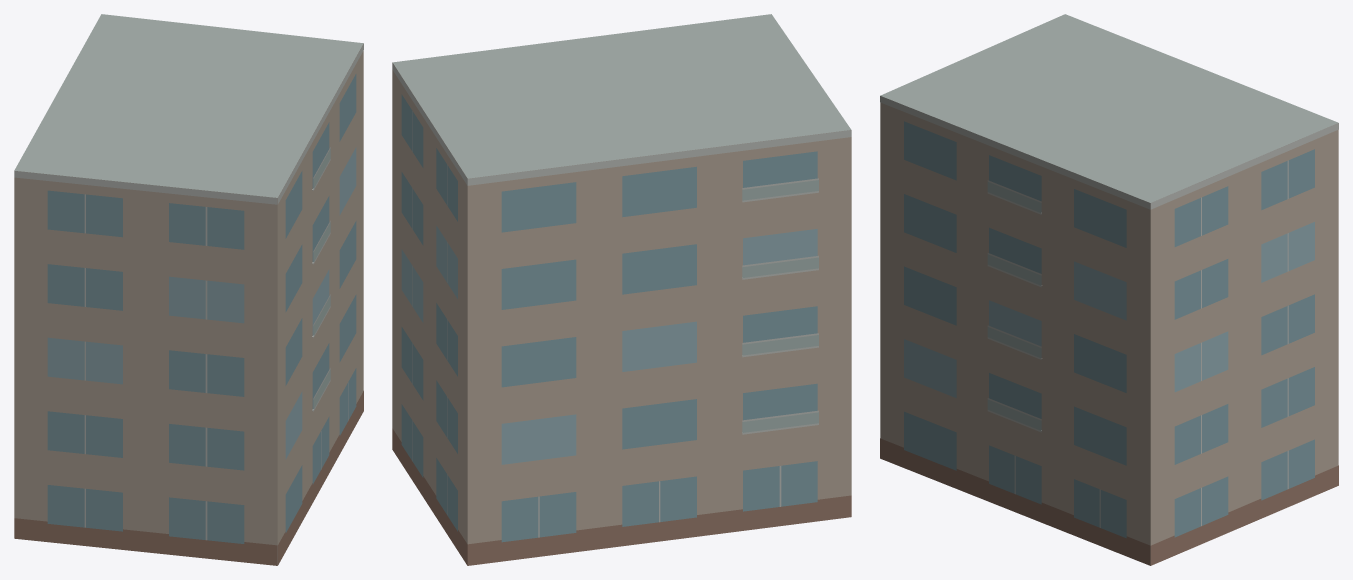
Rendered from survey-upis-32892496.glb.
3 views of the same model, side by side, from view 1: azimuth 30°, elevation 25°; view 2: azimuth 150°, elevation 25°; view 3: azimuth 270°, elevation 25° (orthographic). The views are drawn at different scales.
Visible parts, largest first — view 1: survey-upis-32892496.tmp; view 2: survey-upis-32892496.tmp; view 3: survey-upis-32892496.tmp.
Part boxes in pixels (<box>): survey-upis-32892496.tmp: <box>14,14,363,565</box>; survey-upis-32892496.tmp: <box>392,14,851,565</box>; survey-upis-32892496.tmp: <box>880,14,1338,565</box>.
Size of the model in its own units: 14.76 by 13.2 by 15.13.
